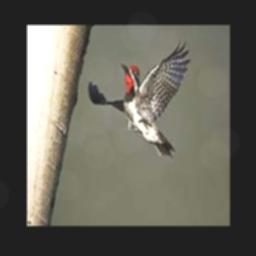Woodpecker: (89, 39, 191, 158)
